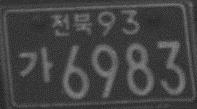3: (156, 40, 186, 96), (119, 9, 141, 35)
6: (61, 44, 90, 99)
8: (125, 41, 154, 97)
9: (91, 44, 118, 99), (96, 10, 117, 38)
가: (17, 45, 54, 83)
전북_O: (49, 10, 93, 37)
